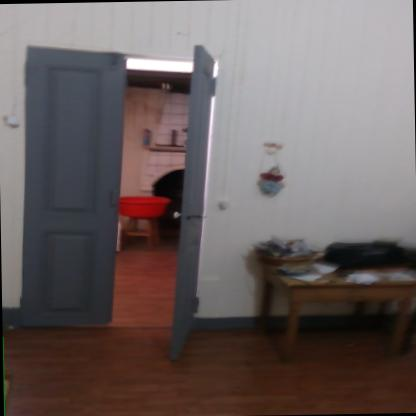semi: (7, 38, 219, 346)
